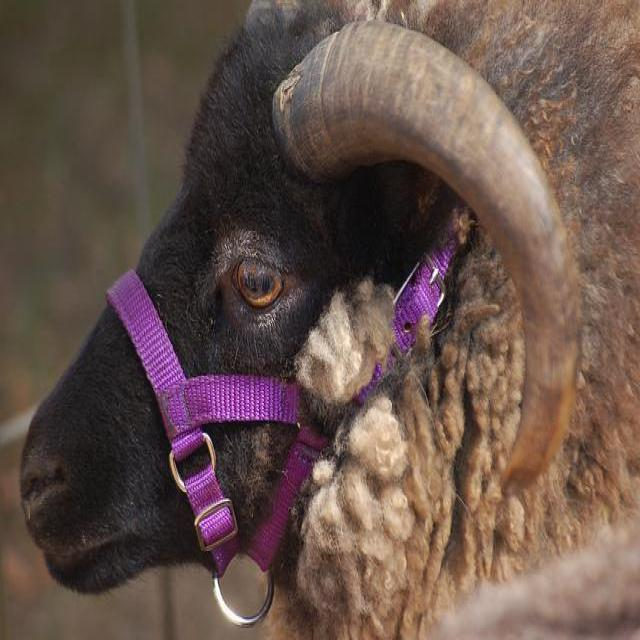Sheep: (21, 0, 639, 605)
